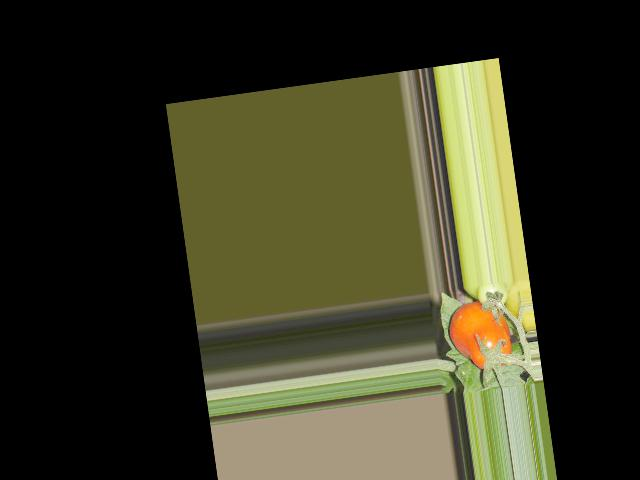tomato: (446, 298, 514, 374)
